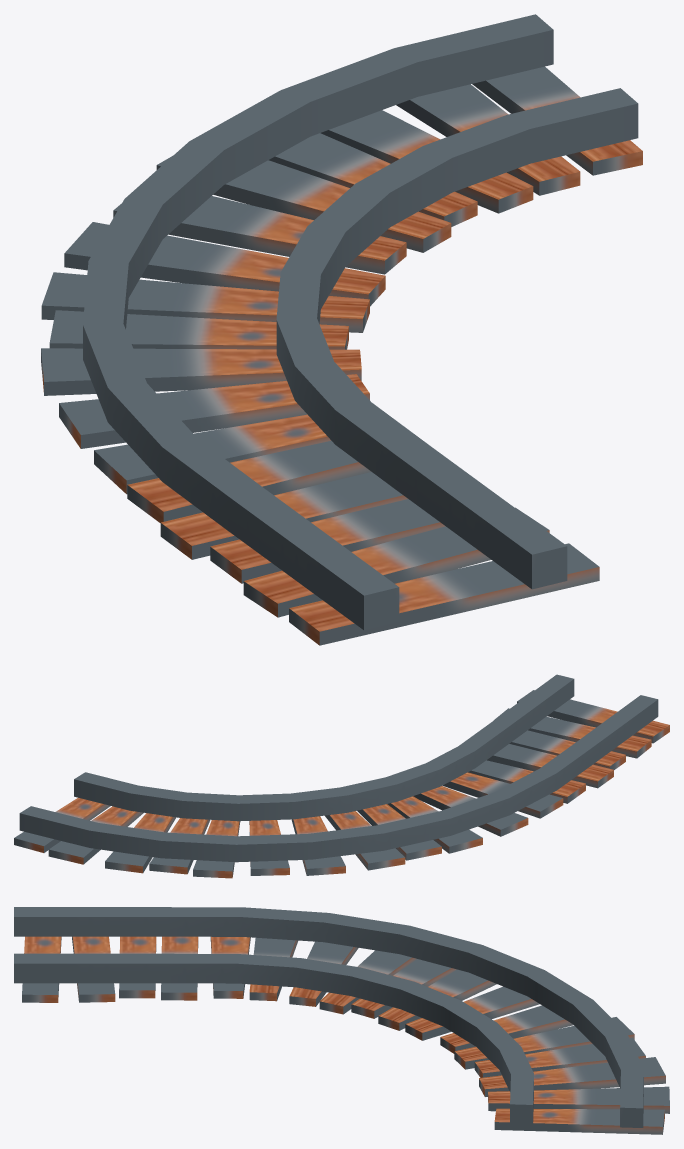
Rendered from long_turn_r_2.fbx.
3 views of the same model, one above another, from view 1: azimuth 30°, elevation 25°; view 2: azimuth 150°, elevation 25°; view 3: azimuth 270°, elevation 25° (orthographic). The views are drawn at different scales.
Parts seen in each view (by area): view 1: long_turn_r_2; view 2: long_turn_r_2; view 3: long_turn_r_2.
Boxes of the visible parts, <box> form: long_turn_r_2: <box>41,14,642,645</box>; long_turn_r_2: <box>14,674,669,878</box>; long_turn_r_2: <box>14,907,669,1134</box>.
Size of the model in its own units: 33.79 by 2.08 by 44.03.
